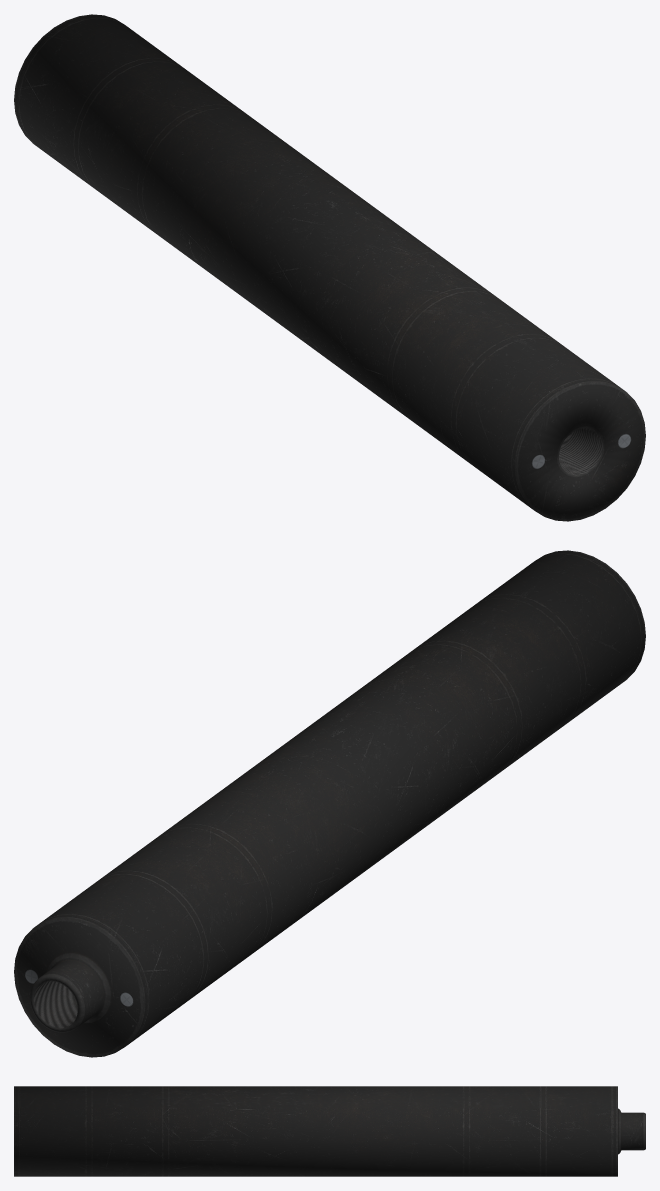
Rendered from sup_sr8.glb.
3 views of the same model, one above another, from view 1: azimuth 30°, elevation 25°; view 2: azimuth 150°, elevation 25°; view 3: azimuth 270°, elevation 25° (orthographic). The views are drawn at different scales.
Parts seen in each view (by area): view 1: O_sup_sr8__Body; view 2: O_sup_sr8__Body; view 3: O_sup_sr8__Body.
Boxes of the visible parts, bbox=[...] form: O_sup_sr8__Body: bbox=[14, 14, 645, 521]; O_sup_sr8__Body: bbox=[14, 550, 645, 1057]; O_sup_sr8__Body: bbox=[14, 1086, 645, 1176].
Size of the model in its own units: 0.0803 by 0.0803 by 0.5608.
Materials: 1 (1 with a texture image).
